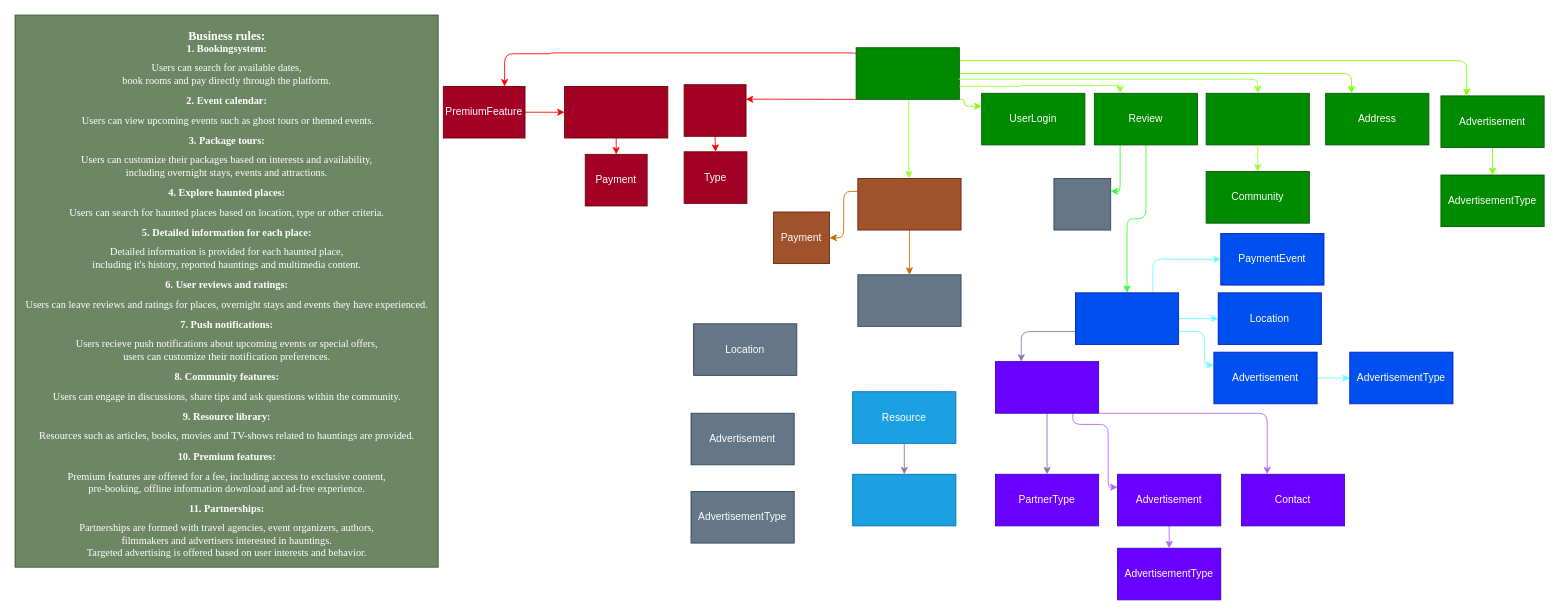
Image size: 1559x615. Some labels were removed from this diagram. Each missing label, with the centre of its shape:
"Booking" belongs at (909,204).
"Event" belongs at (1127,318).
"Haunted place" belongs at (909,300).
"Notification" belongs at (714,110).
"Partnership" belongs at (1047,387).
"Premium feature" belongs at (616,112).
"ResourceCategory" belongs at (904,499).
"Review Haunted Place" belongs at (1082,204).
"User" belongs at (907,73).
"UserCommunity" belongs at (1257,118).
